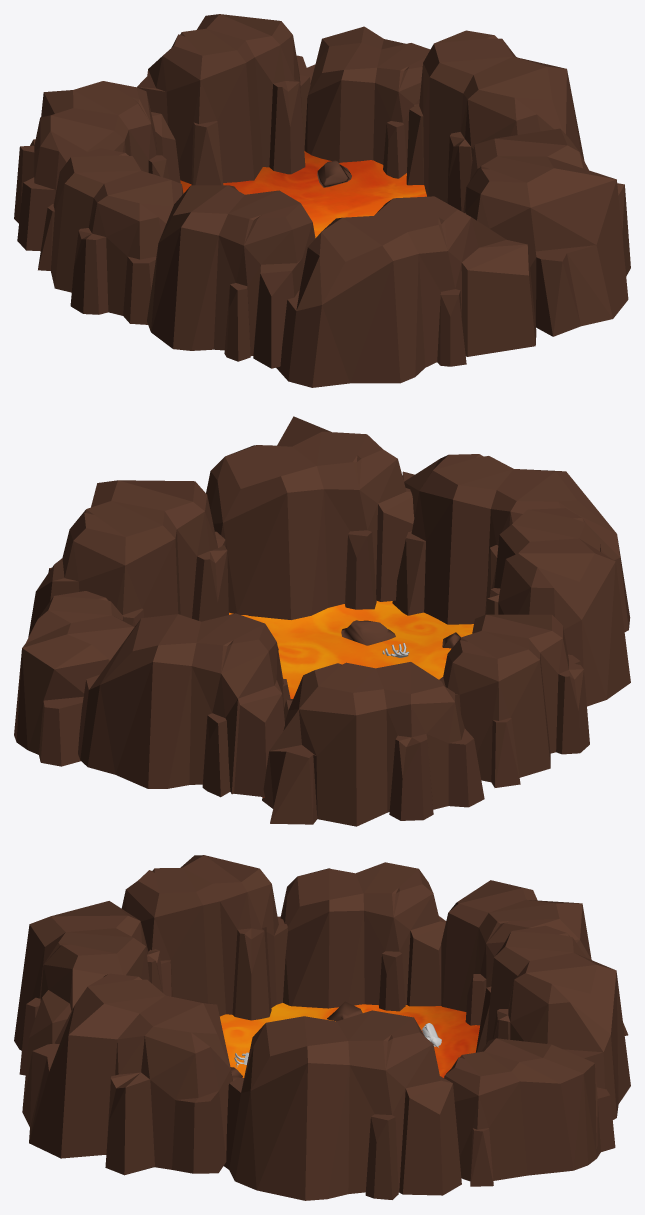
File: map burnslite.fbx
The picture shows the model from 3 angles, top to bottom: view 1: azimuth 30°, elevation 25°; view 2: azimuth 150°, elevation 25°; view 3: azimuth 270°, elevation 25°; orthographic projection. The views are drawn at different scales.
Parts seen in each view (by area): view 1: map_nui_lua; view 2: map_nui_lua; view 3: map_nui_lua.
Boxes of the visible parts, x1,y1,x2,y2 form: map_nui_lua: (14, 14, 630, 387); map_nui_lua: (14, 416, 630, 826); map_nui_lua: (14, 855, 630, 1200).
Size of the model in its own units: 19729 by 5700 by 20924.
